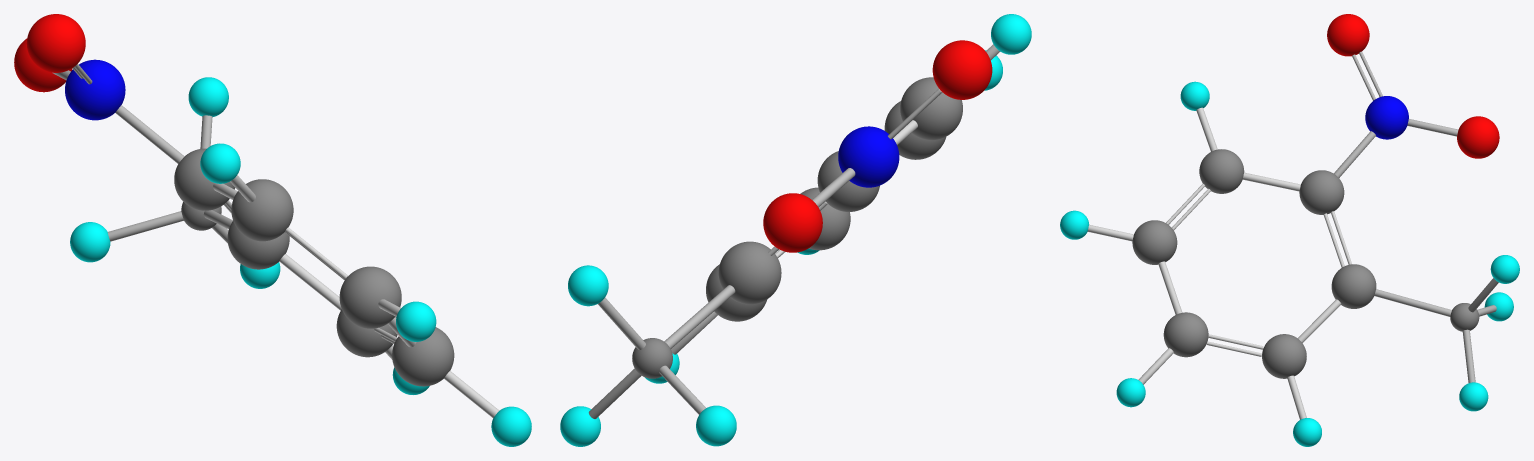
The model's file is o-nitrotoluene.glb.
3 renders of one model, left to right at view 1: azimuth 30°, elevation 25°; view 2: azimuth 150°, elevation 25°; view 3: azimuth 270°, elevation 25°, orthographic. The views are drawn at different scales.
Visible parts, largest first — view 1: CMAtom_1, CMAtom_5, CMAtom_12, CMAtom_10, CMAtom_3, CMAtom_2, CMAtom_4, CMAtom_0, CMAtom_7, CMAtom_8, CMAtom_9, CMAtom_16 (+8 smaller); view 2: CMAtom_4, CMAtom_12, CMAtom_11, CMAtom_10, CMAtom_1, CMAtom_2, CMAtom_16, CMAtom_7, CMAtom_14, CMAtom_15, CMAtom_3, CMAtom_5 (+7 smaller); view 3: CMAtom_1, CMAtom_2, CMAtom_3, CMAtom_4, CMAtom_5, CMAtom_0, CMAtom_12, CMAtom_11, CMAtom_10, CMAtom_15, CMAtom_8, CMAtom_9 (+7 smaller).
Boxes of the visible parts, bbox=[...] form: CMAtom_1: bbox=[231, 179, 293, 241]; CMAtom_5: bbox=[339, 266, 401, 328]; CMAtom_12: bbox=[65, 59, 125, 120]; CMAtom_10: bbox=[26, 14, 85, 72]; CMAtom_3: bbox=[392, 327, 454, 386]; CMAtom_2: bbox=[174, 148, 235, 210]; CMAtom_4: bbox=[227, 221, 289, 269]; CMAtom_0: bbox=[336, 309, 397, 357]; CMAtom_7: bbox=[200, 143, 240, 183]; CMAtom_8: bbox=[491, 406, 531, 446]; CMAtom_9: bbox=[396, 301, 436, 341]; CMAtom_16: bbox=[70, 222, 110, 262]; CMAtom_4: bbox=[718, 241, 781, 304]; CMAtom_12: bbox=[838, 126, 899, 187]; CMAtom_11: bbox=[763, 193, 822, 252]; CMAtom_10: bbox=[932, 40, 992, 99]; CMAtom_1: bbox=[900, 77, 962, 140]; CMAtom_2: bbox=[817, 151, 879, 211]; CMAtom_16: bbox=[696, 405, 736, 446]; CMAtom_7: bbox=[991, 14, 1031, 54]; CMAtom_14: bbox=[568, 265, 608, 306]; CMAtom_15: bbox=[560, 406, 600, 446]; CMAtom_3: bbox=[800, 187, 850, 250]; CMAtom_5: bbox=[884, 101, 946, 159]; CMAtom_1: bbox=[1199, 149, 1244, 193]; CMAtom_2: bbox=[1299, 170, 1344, 214]; CMAtom_3: bbox=[1163, 312, 1208, 357]; CMAtom_4: bbox=[1331, 264, 1376, 308]; CMAtom_5: bbox=[1132, 220, 1177, 264]; CMAtom_0: bbox=[1262, 334, 1306, 378]; CMAtom_12: bbox=[1365, 96, 1408, 139]; CMAtom_11: bbox=[1457, 116, 1499, 158]; CMAtom_10: bbox=[1327, 14, 1369, 56]; CMAtom_15: bbox=[1459, 382, 1488, 411]; CMAtom_8: bbox=[1116, 378, 1145, 407]; CMAtom_9: bbox=[1060, 210, 1088, 239].
Bounding box in the file's own units: 4.25 × 4.76 × 6.32.
